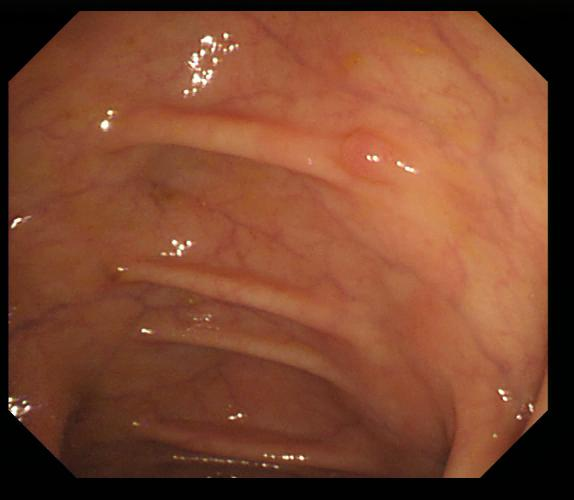polyp: (338, 128, 408, 192)
